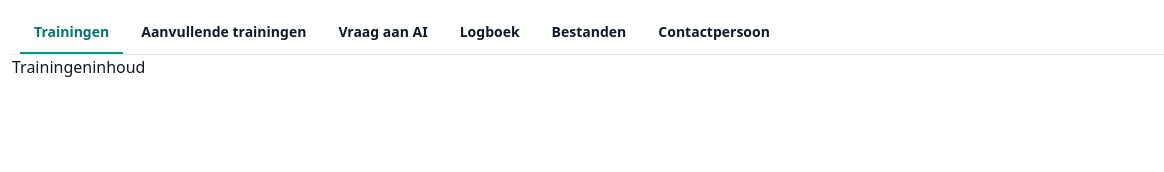
it: SchooldetailTabs › klikken op 'Aanvullende trainingen' toont uitsluitend dat paneel
The image size is (1164, 172).
Click the tab "Aanvullende trainingen" at point(224, 33), box left=127, top=12, right=320, bottom=54
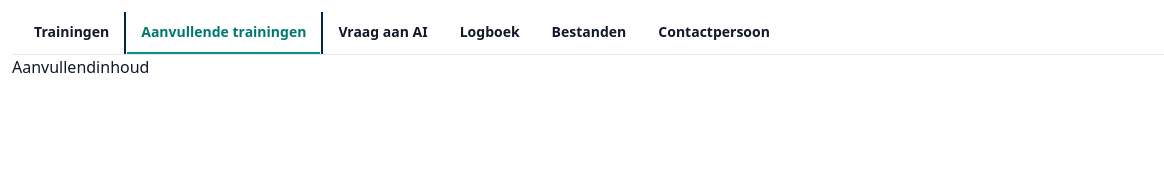
Expected: the text "Aanvullendinhoud" is shown, left=12, top=56, right=149, bottom=78
Expected: the text with test id "paneel-trainingen" is gone
